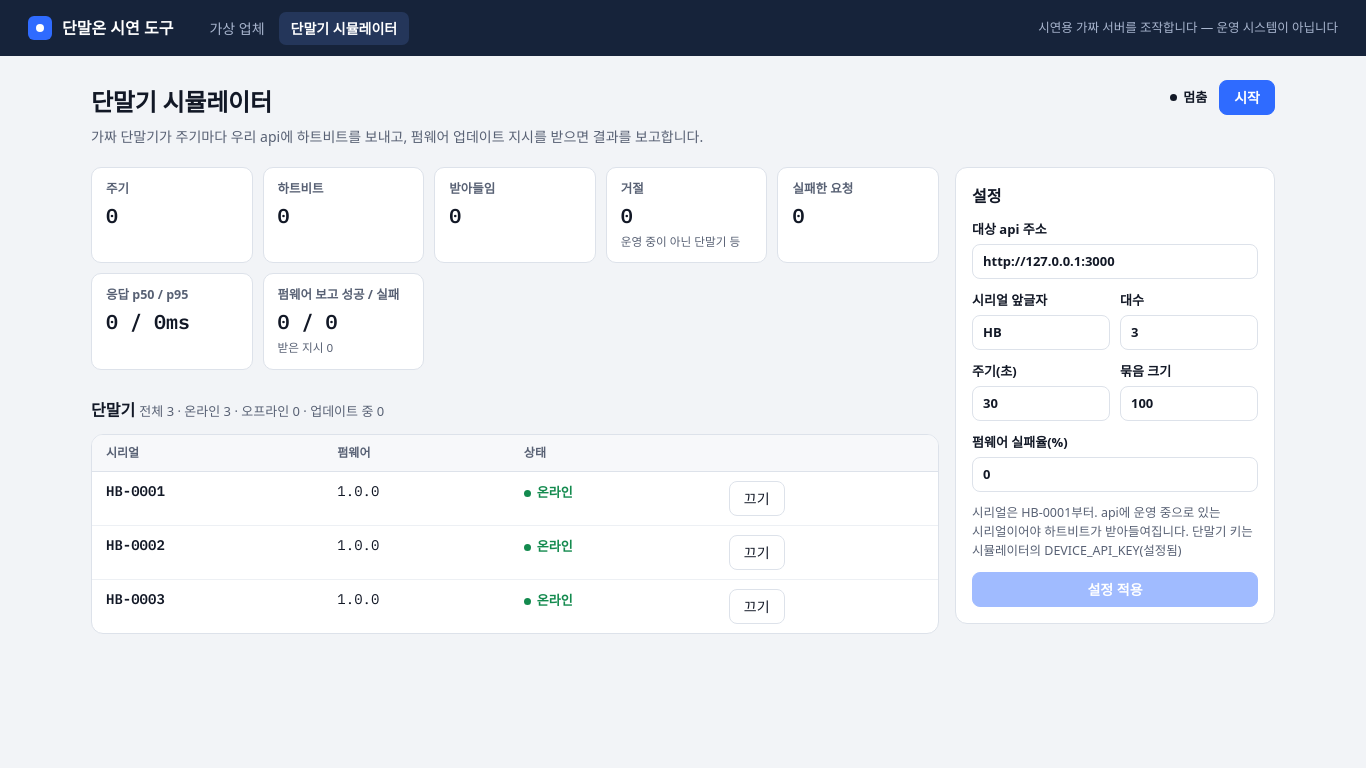
단말기 시뮬레이터 화면 (보강 8) › 서버가 거절하면(400) 그 이유를 보인다
Replace the text in the number field labelled "대수" with "7" at (1189, 332), box left=1120, top=314, right=1258, bottom=350
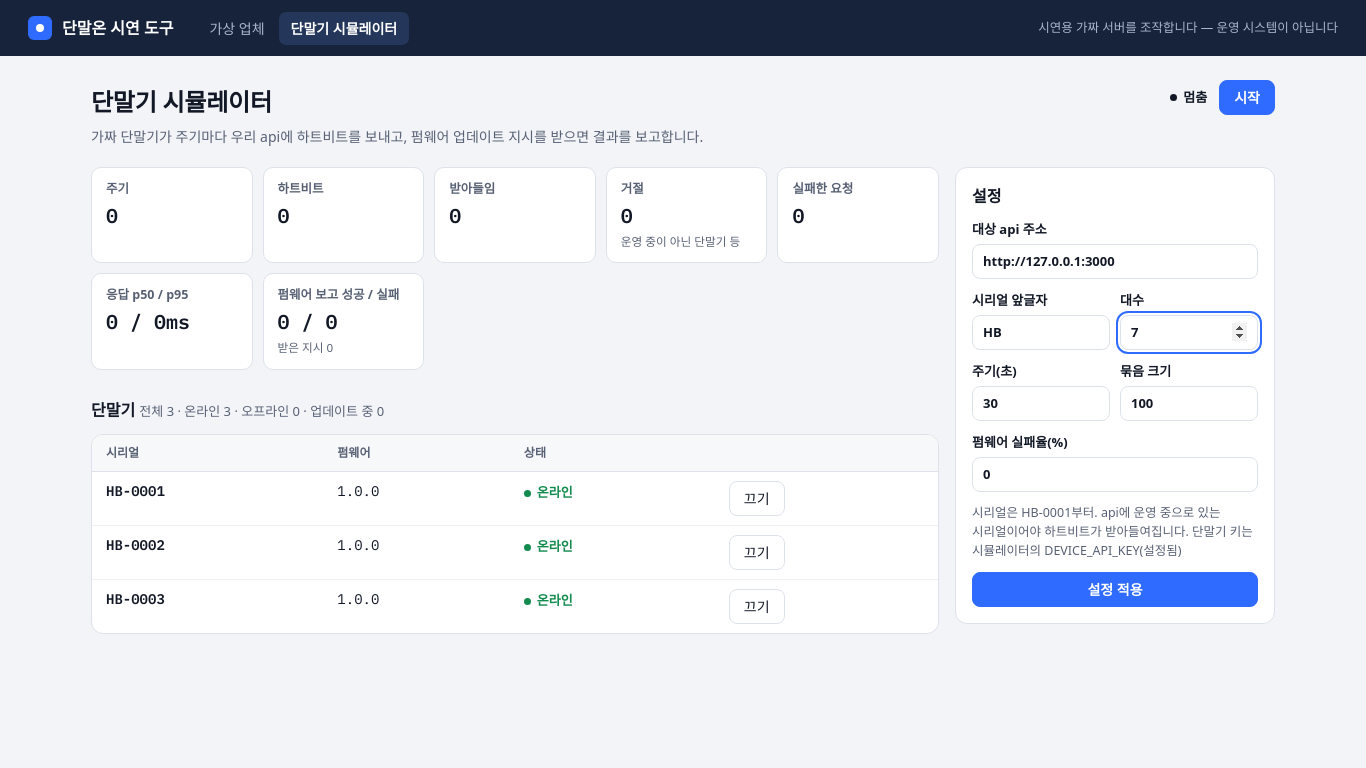
Click the button "설정 적용" at (1115, 590), box left=972, top=572, right=1258, bottom=607
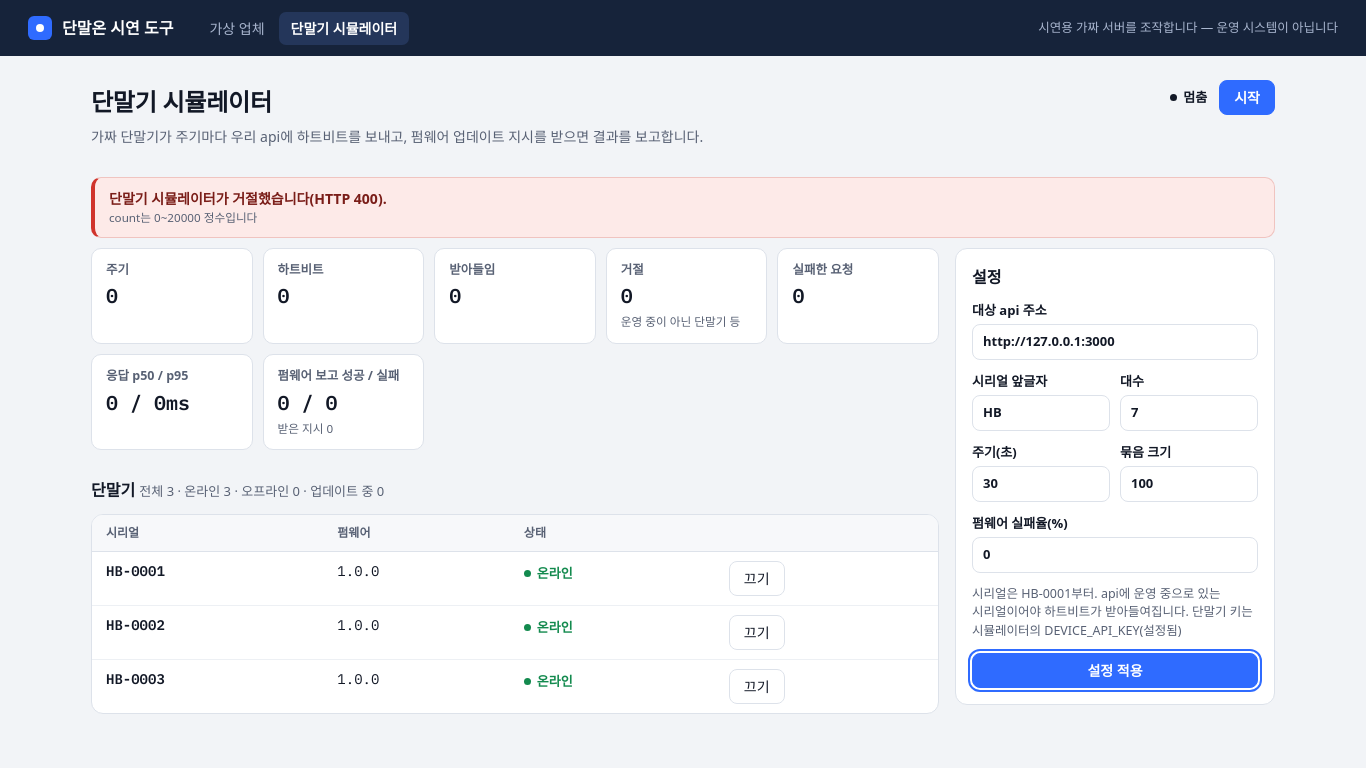
Check: the message shows "count는 0~20000 정수입니다", box left=109, top=210, right=257, bottom=225
